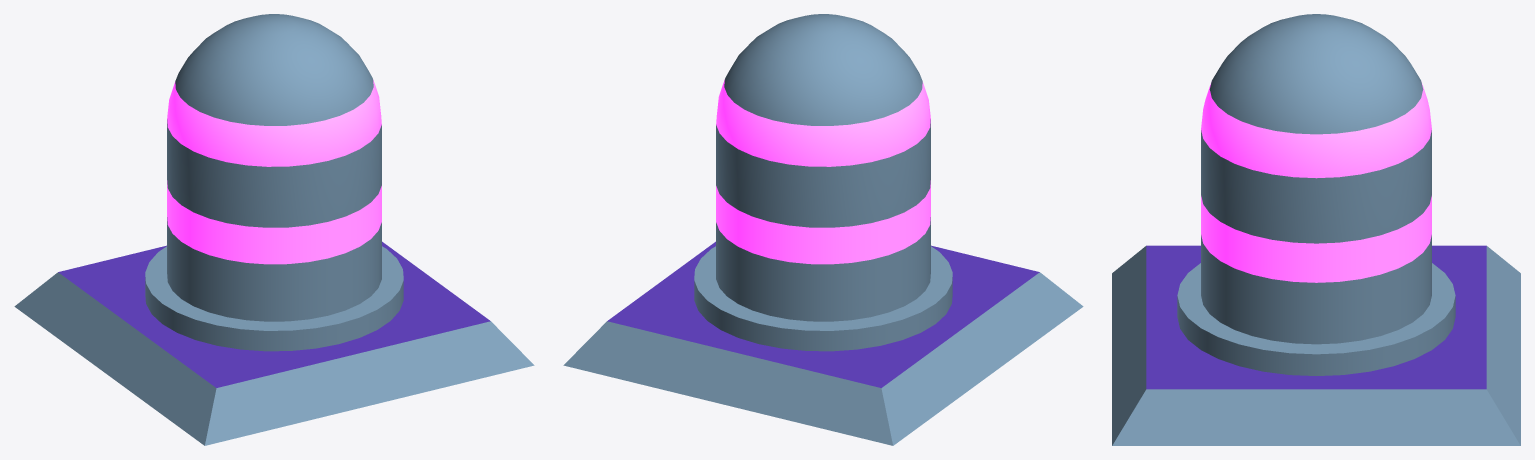
File: Waall_1.fbx
The picture shows the model from 3 angles, left to right: view 1: azimuth 30°, elevation 25°; view 2: azimuth 150°, elevation 25°; view 3: azimuth 270°, elevation 25°; orthographic projection. The views are drawn at different scales.
Visible parts, largest first — view 1: waal_solid_1; view 2: waal_solid_1; view 3: waal_solid_1.
Boxes of the visible parts, box(x1,y1,x2,y2) form: waal_solid_1: box(14, 14, 534, 445); waal_solid_1: box(563, 14, 1083, 445); waal_solid_1: box(1112, 14, 1520, 445).
Size of the model in its own units: 39.36 by 35.59 by 39.36.
